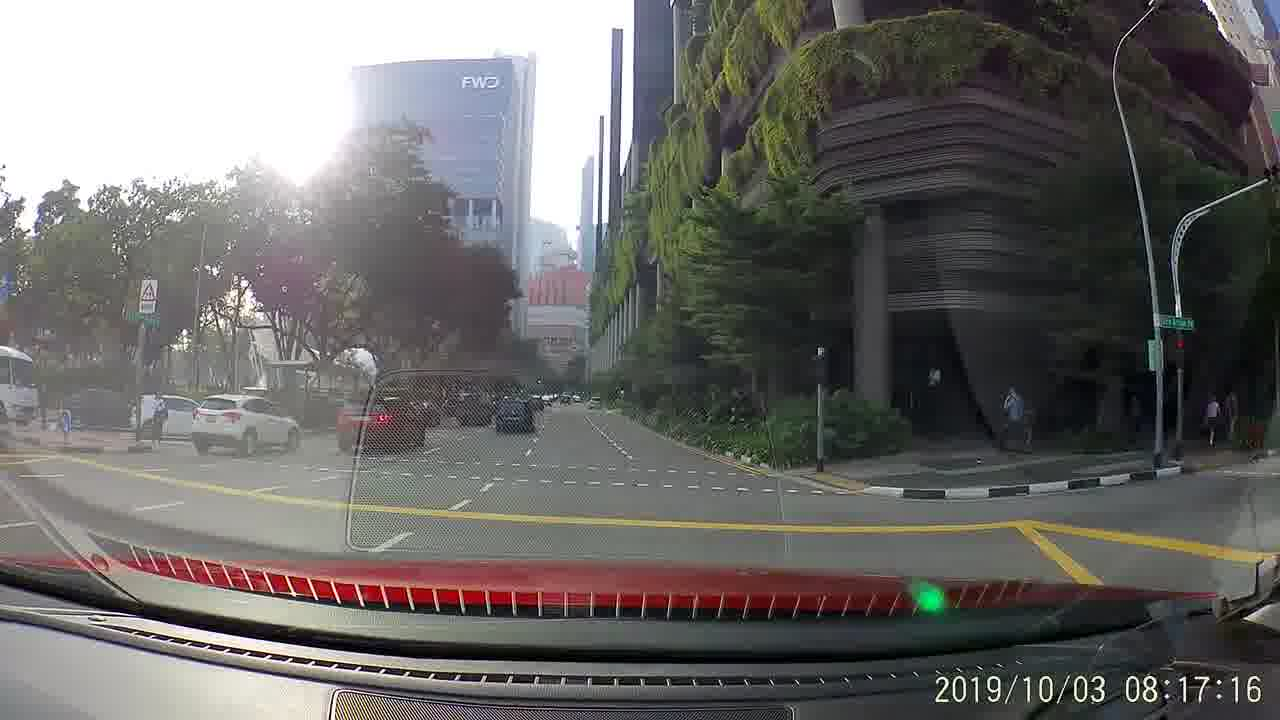bus: (0, 340, 39, 425)
car: (192, 390, 294, 451), (335, 385, 427, 451), (58, 388, 138, 430), (492, 391, 540, 437)
